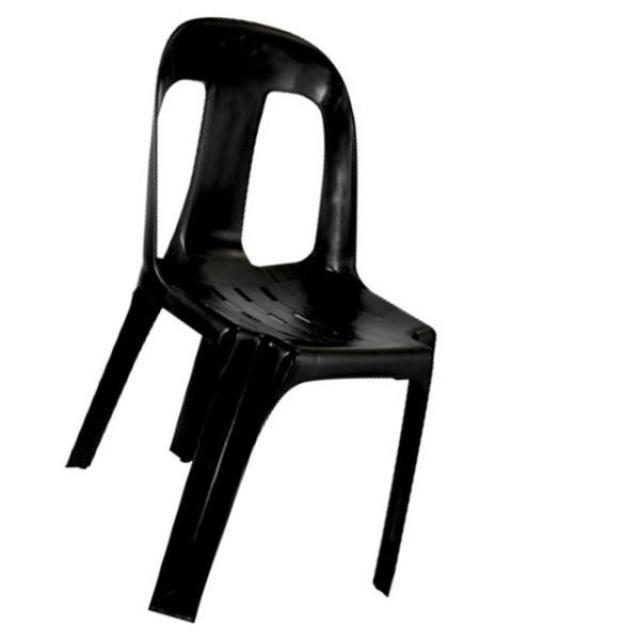chair: (62, 15, 440, 619)
